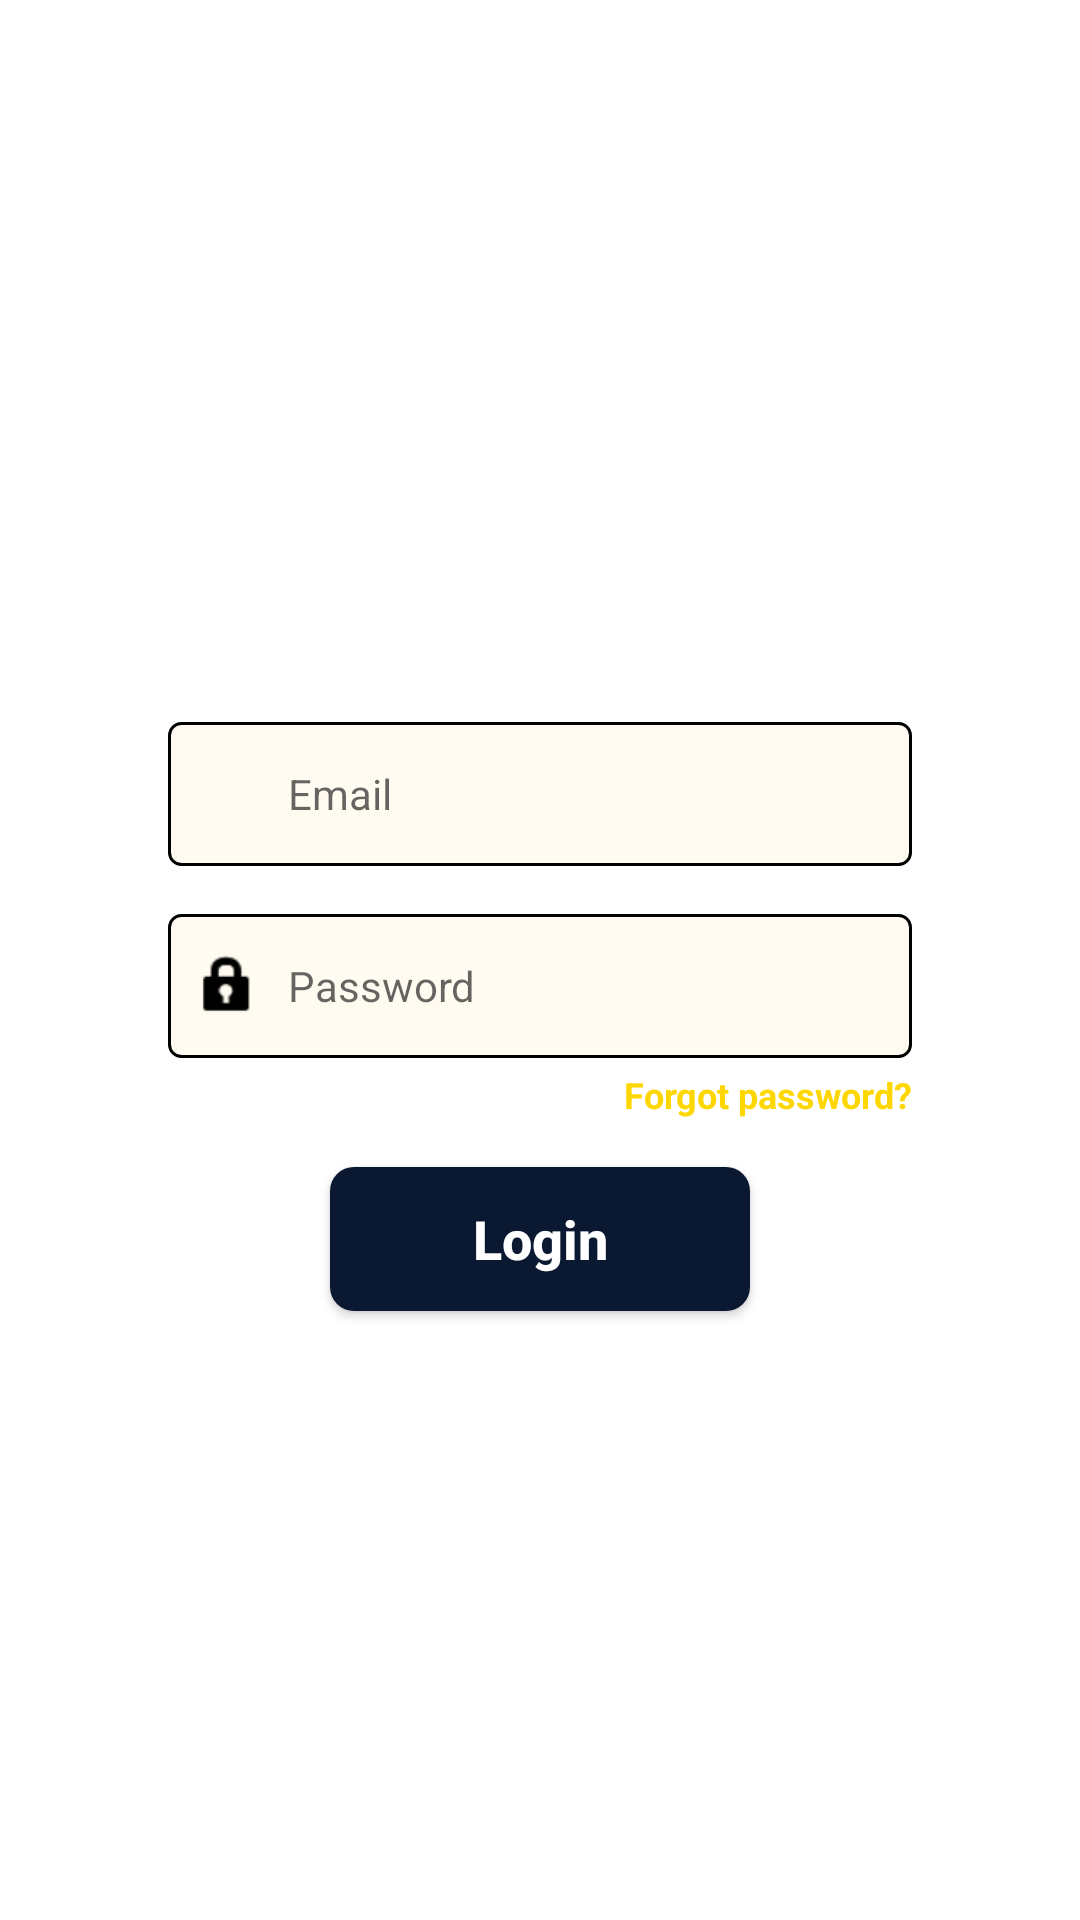

Named icons in this screenshot (1080w x 1920h) and their centers, point (x, y):
lock idle: point (226, 983)
